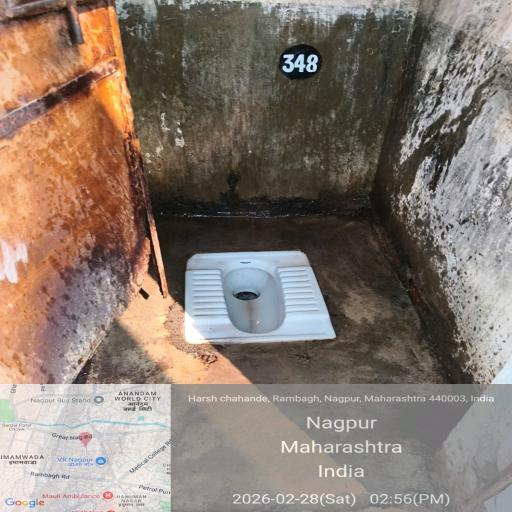clean_indian: (165, 244, 386, 367)
partial_dirty_floor: (85, 0, 512, 241), (62, 352, 512, 512)
